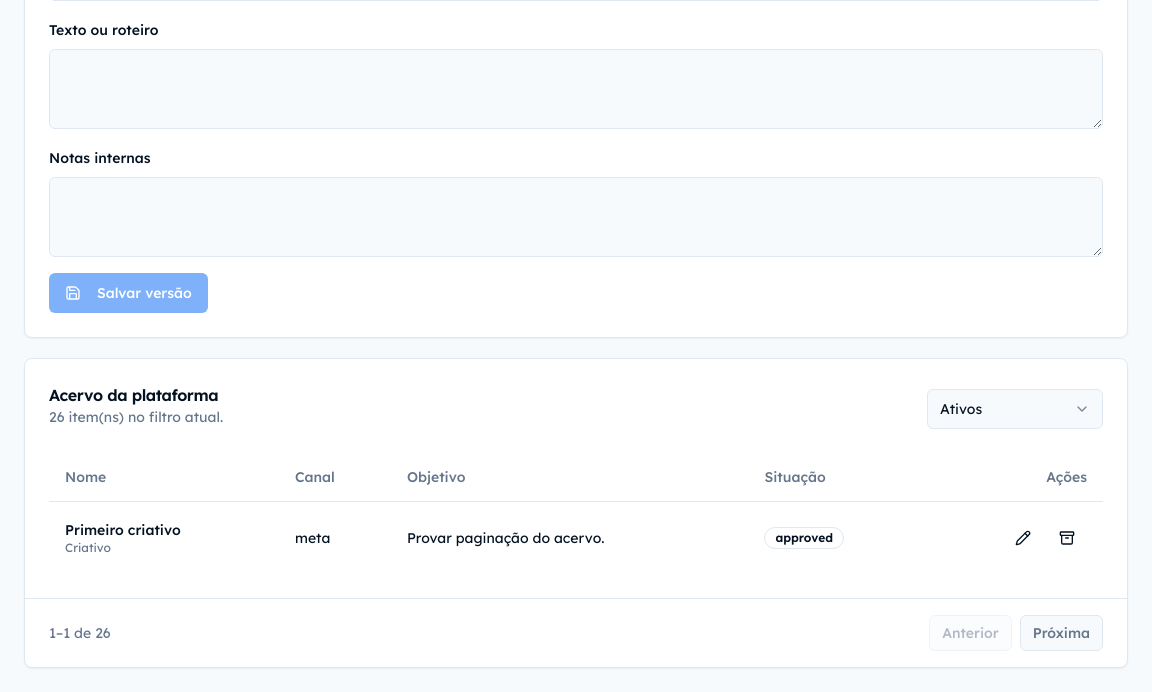
Test case: BlackboxCreativeLibrary › uses the filtered server page and its canonical total
(page scrolled)
Expected: the text "Primeiro criativo" is shown, [65, 520, 181, 538]
Expected: the text "26 item(ns) no filtro atual." is shown, [49, 407, 223, 427]
Click the button "Próxima" at coordinates (1061, 632), box [1020, 614, 1103, 650]
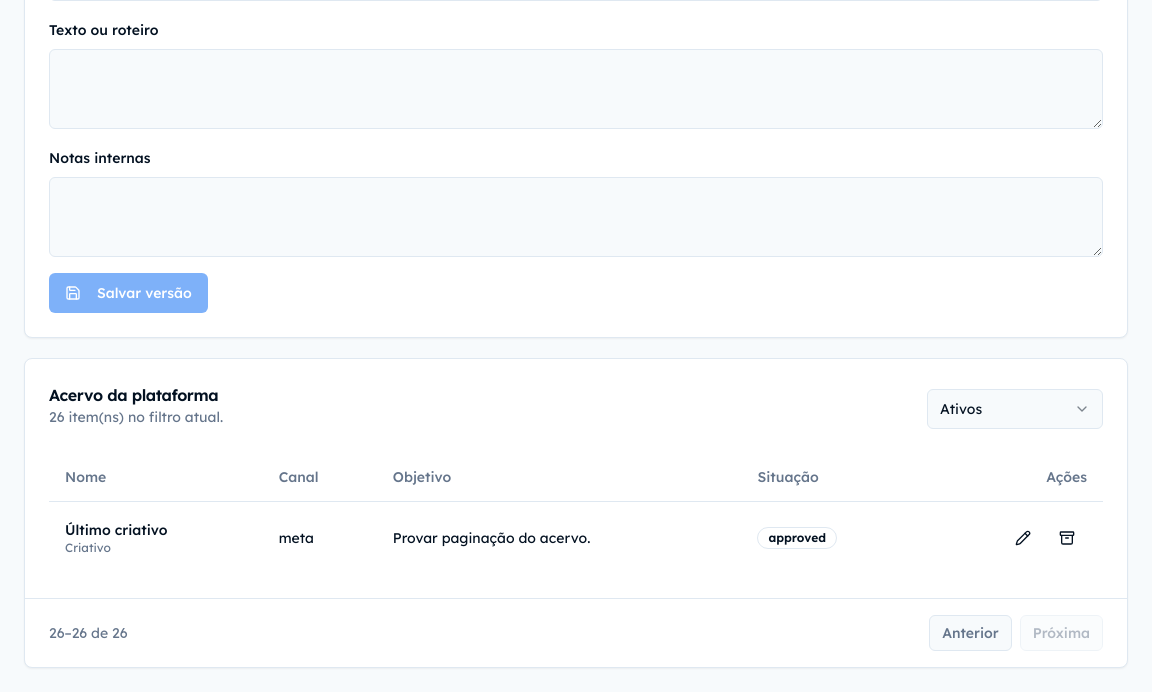
Expected: the text "Último criativo" is shown, [65, 520, 168, 538]
Expected: the text "26–26 de 26" is shown, [49, 622, 128, 642]
